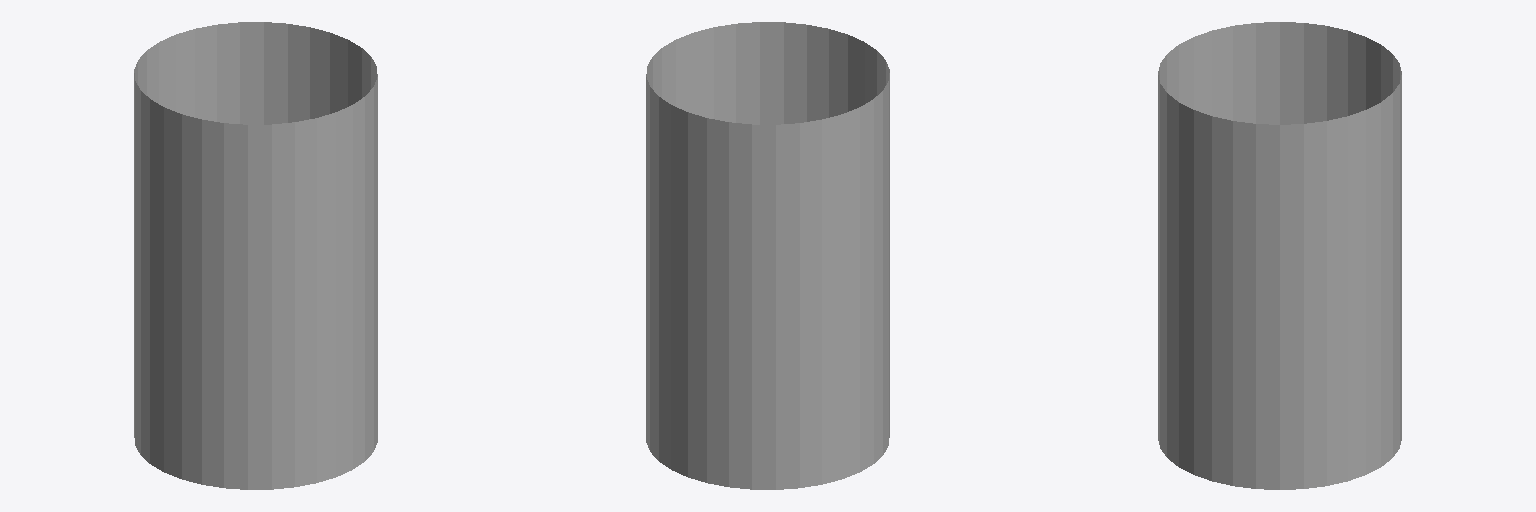
The model's file is PounceImpactCylinder.obj.
3 renders of one model, left to right at view 1: azimuth 30°, elevation 25°; view 2: azimuth 150°, elevation 25°; view 3: azimuth 270°, elevation 25°, orthographic.
Parts seen in each view (by area): view 1: Cylinder; view 2: Cylinder; view 3: Cylinder.
Part boxes in pixels (x1,y1,x2,y2): Cylinder: (134,22,377,489); Cylinder: (646,22,889,489); Cylinder: (1158,22,1401,489).
Size of the model in its own units: 2 by 3.3 by 2.